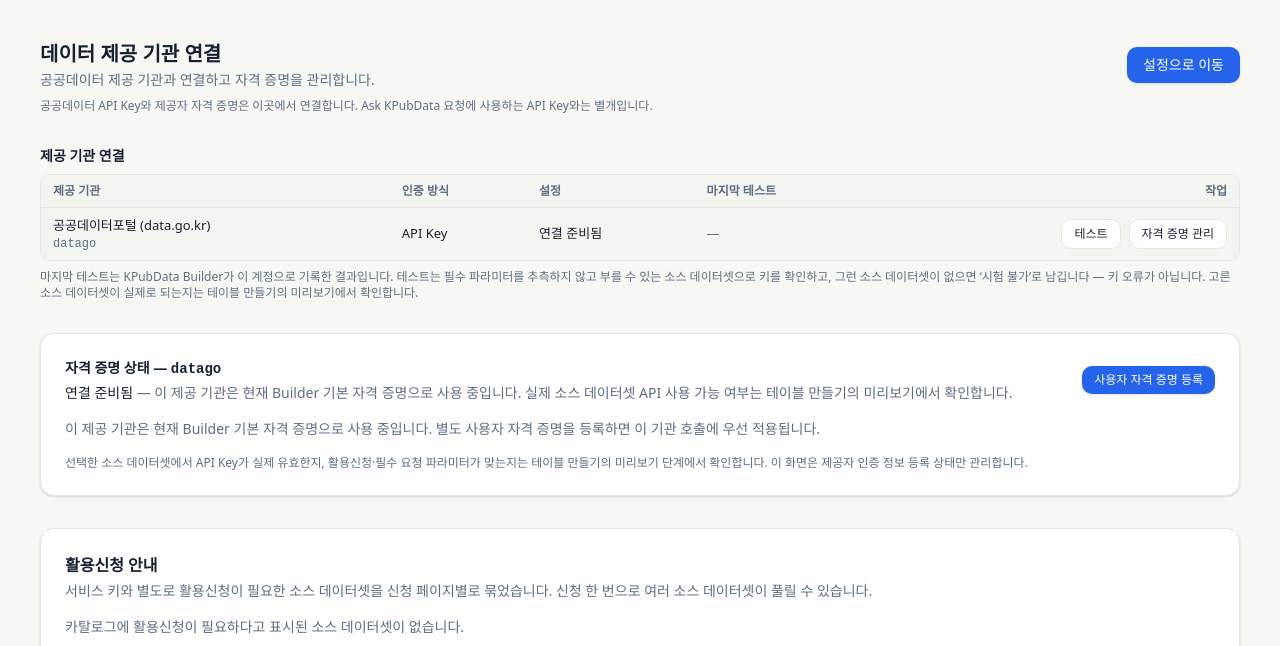
Test: ProviderPage, after a key is saved or deleted › stops saying the default credential is in use once the user's key is saved
Expected: the text "Builder 기본 자격 증명으로 사용 중" is shown, [154,382,1012,402]
Click the button "사용자 자격 증명 등록" at (1149, 380), box [1082,366,1215,394]
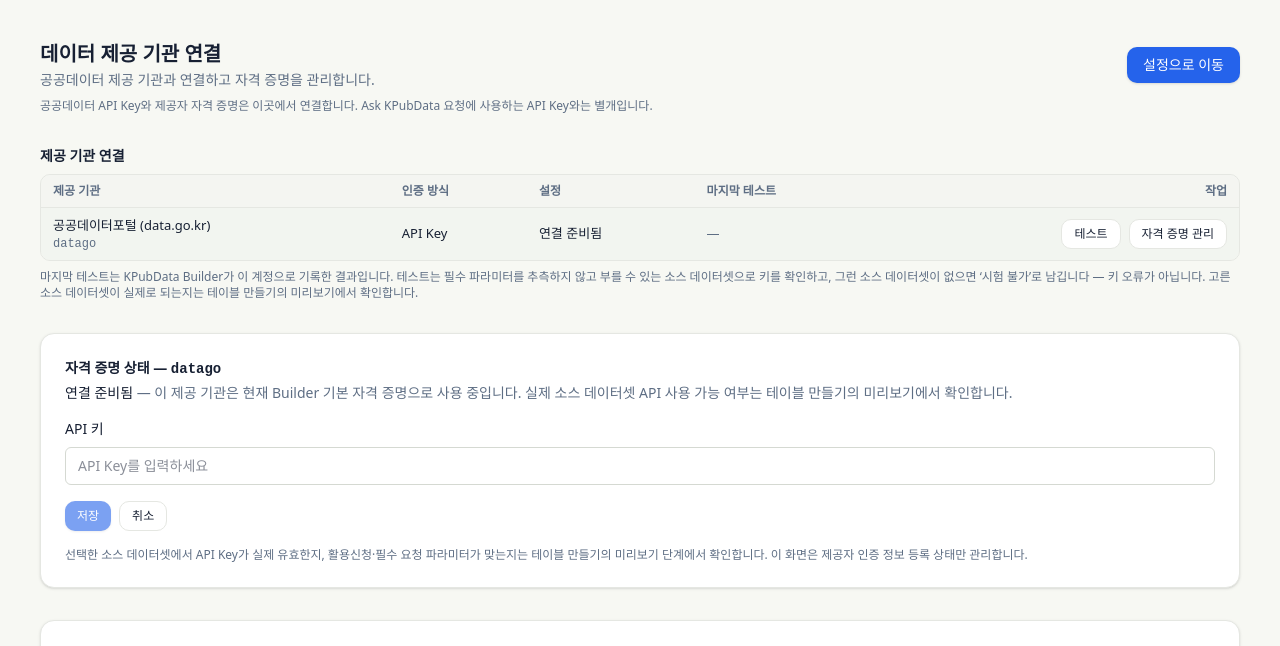
Type "secret" into the password field with placeholder "API Key를 입력하세요" at (640, 466), box [65,446,1215,484]
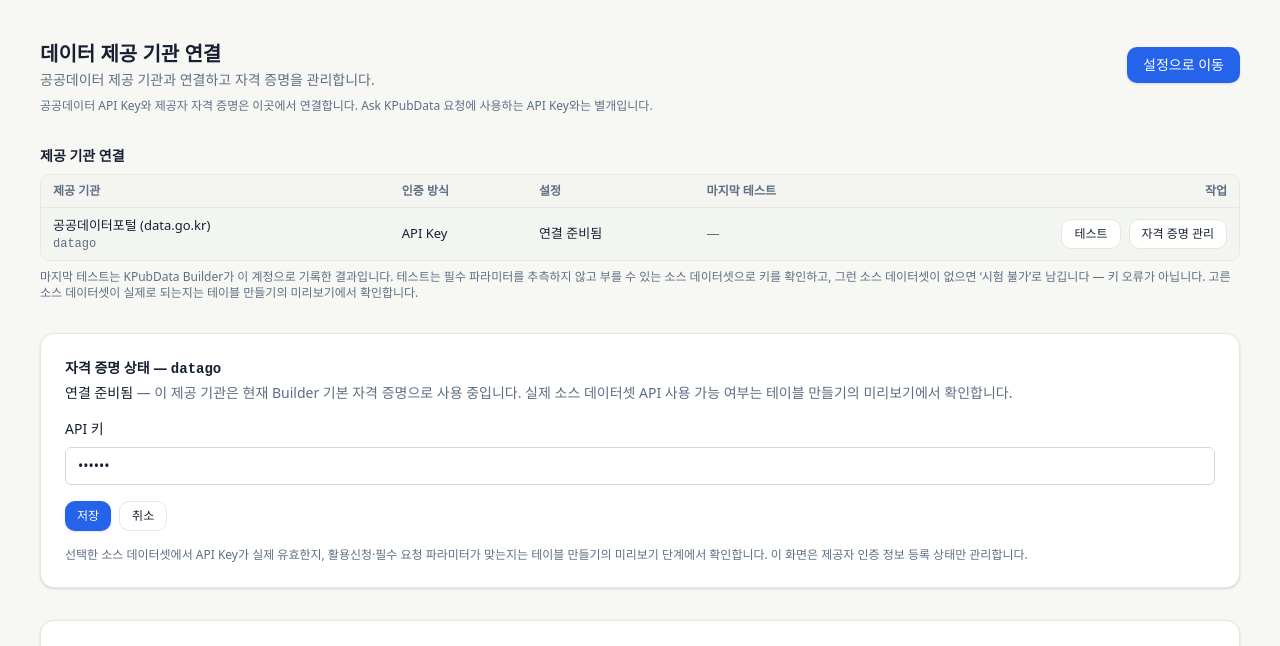
Click the button "저장" at (88, 516), box [65,500,111,530]
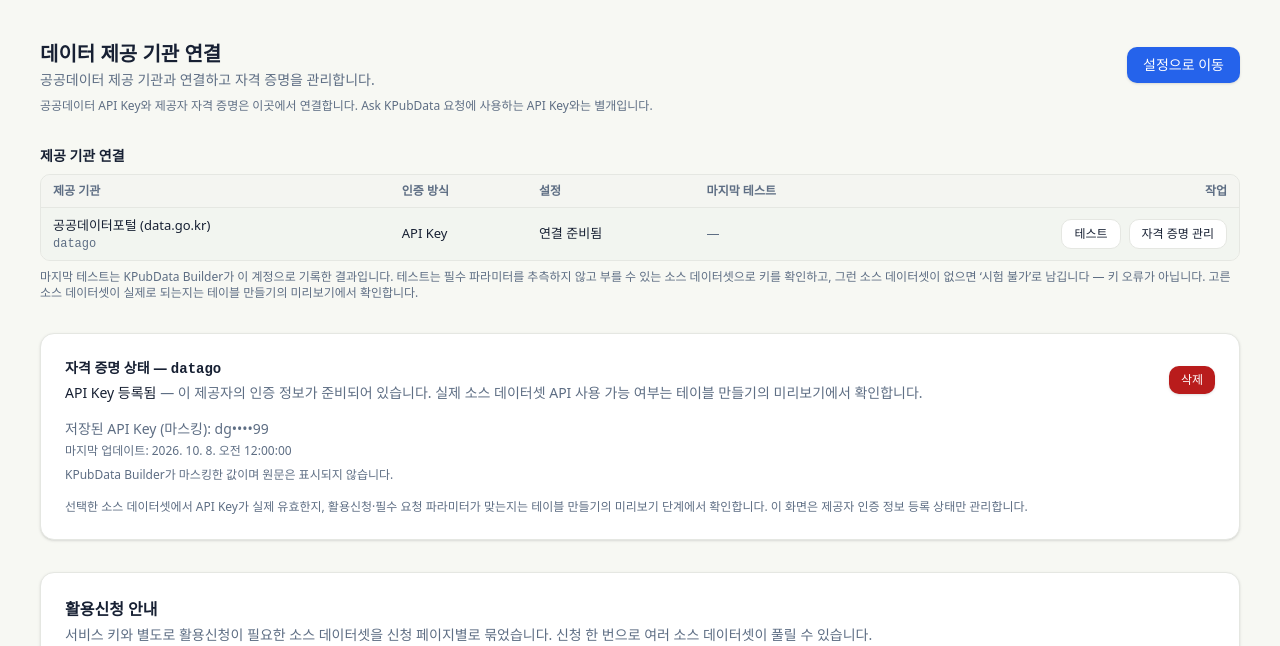
Result: the text "저장된 API Key (마스킹): dg••••99" is shown at [65,418,269,438]
Result: the text "Builder 기본 자격 증명으로 사용 중" is not shown
Result: the text "API Key 등록됨" is shown at [65,382,156,402]
